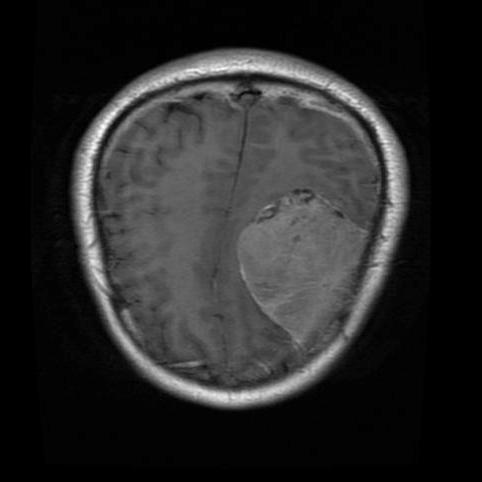Tumour-Meningioma: (215, 171, 396, 355)
